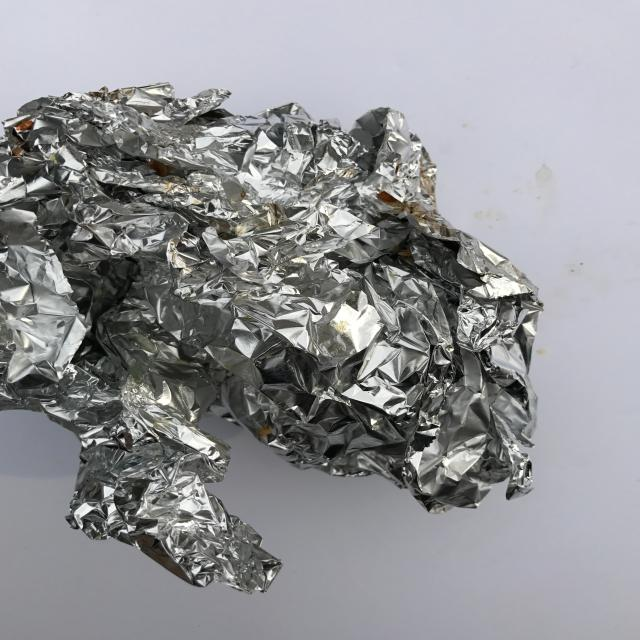metal: (0, 82, 544, 593)
